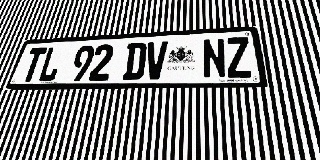2: (88, 44, 115, 81)
9: (69, 45, 96, 81)
D: (122, 42, 147, 80)
L: (37, 46, 65, 82)
N: (202, 38, 227, 79)
T: (19, 47, 48, 82)
V: (144, 41, 168, 80)
Z: (225, 37, 253, 78)
